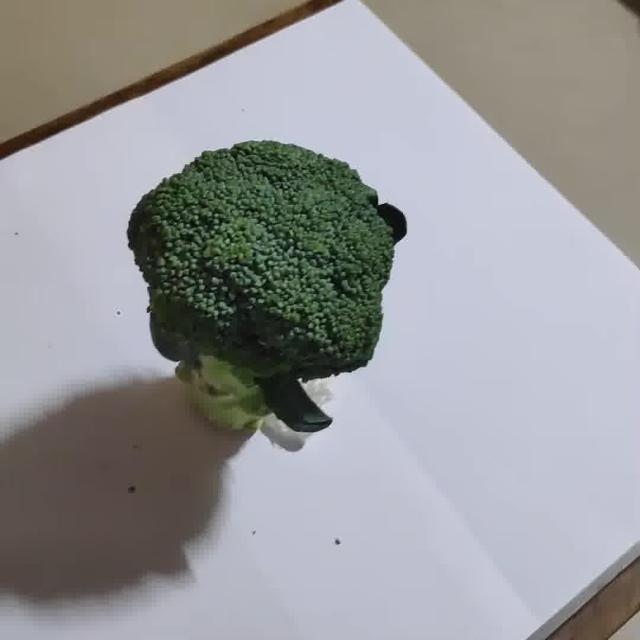Broccoli: (127, 141, 407, 451)
